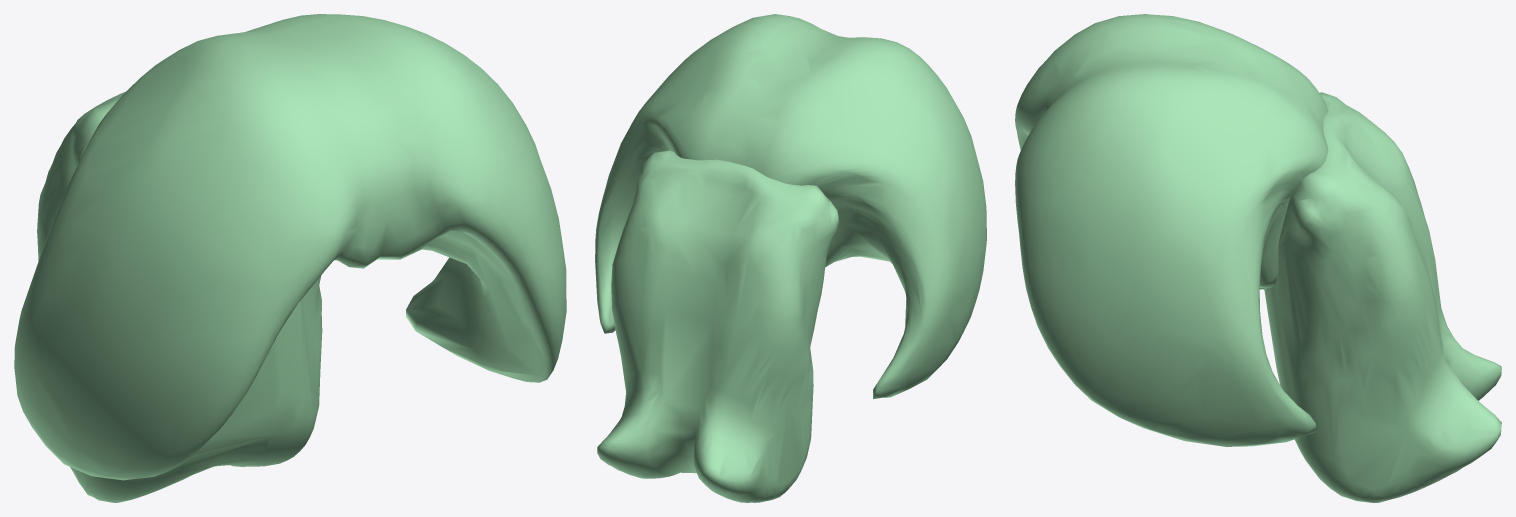
The model's file is Mane_06.fbx.
3 renders of one model, left to right at view 1: azimuth 30°, elevation 25°; view 2: azimuth 150°, elevation 25°; view 3: azimuth 270°, elevation 25°, orthographic. The views are drawn at different scales.
Visible parts, largest first — view 1: Mane_06; view 2: Mane_06; view 3: Mane_06.
Part boxes in pixels (left/top/right/bottom): Mane_06: left=14, top=14, right=566, bottom=502; Mane_06: left=595, top=14, right=986, bottom=502; Mane_06: left=1015, top=14, right=1501, bottom=502.
Bounding box in the file's own units: 160 × 167 × 174.
